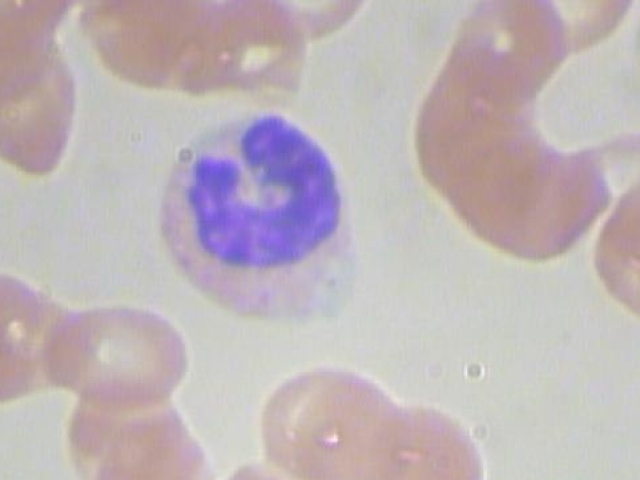Platelets: (633, 34, 640, 85)
RBC: (52, 294, 188, 412), (0, 262, 54, 412), (508, 0, 640, 54), (241, 0, 377, 42), (197, 454, 338, 480)
WBC: (136, 94, 373, 351)
